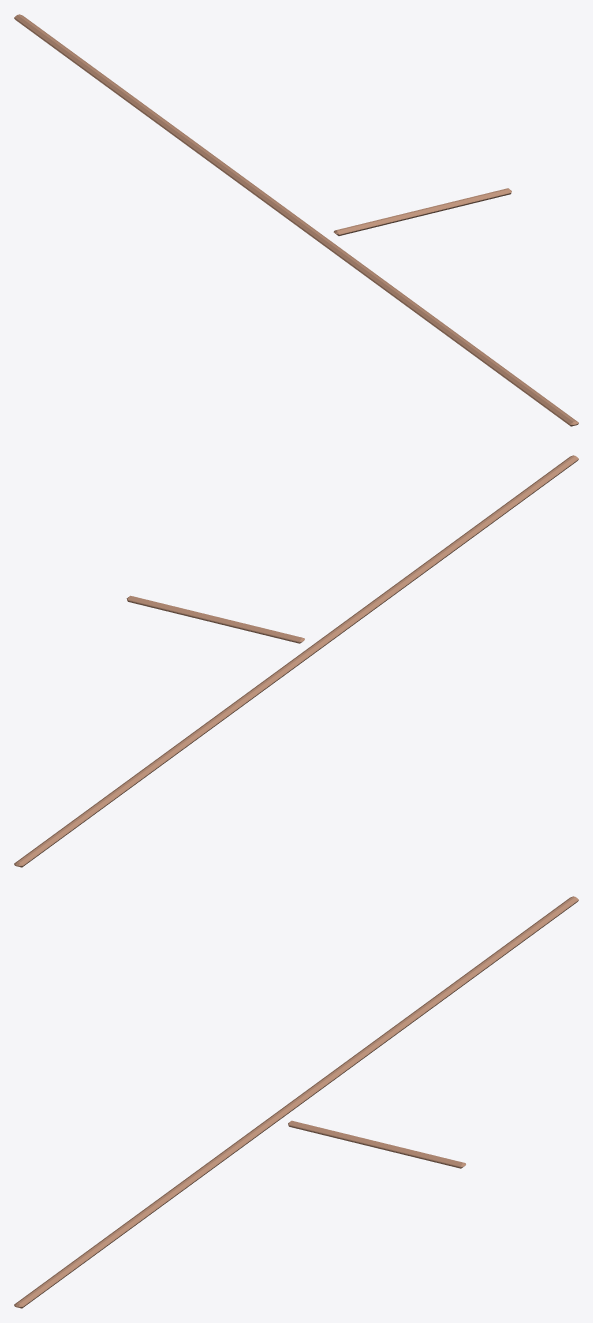
File: Floor dividers.fbx
3 renders of one model, top to bottom at view 1: azimuth 30°, elevation 25°; view 2: azimuth 150°, elevation 25°; view 3: azimuth 330°, elevation 25°, orthographic.
Visible parts, largest first — view 1: Floor_Divider_Kitchen, Floor_Divider_Bedroom; view 2: Floor_Divider_Kitchen, Floor_Divider_Bedroom; view 3: Floor_Divider_Kitchen, Floor_Divider_Bedroom.
Part boxes in pixels (box(x1,y1,x2,y2)): Floor_Divider_Kitchen: box(14, 14, 578, 426); Floor_Divider_Bedroom: box(333, 188, 511, 235); Floor_Divider_Kitchen: box(14, 455, 578, 867); Floor_Divider_Bedroom: box(126, 595, 304, 643); Floor_Divider_Kitchen: box(14, 896, 578, 1308); Floor_Divider_Bedroom: box(288, 1120, 465, 1168).
Size of the model in its own units: 316 by 6.41 by 1557.
